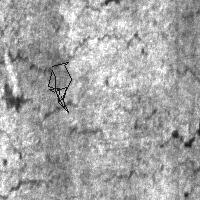crazing: (2, 31, 176, 111), (36, 99, 173, 165), (48, 62, 71, 112)
